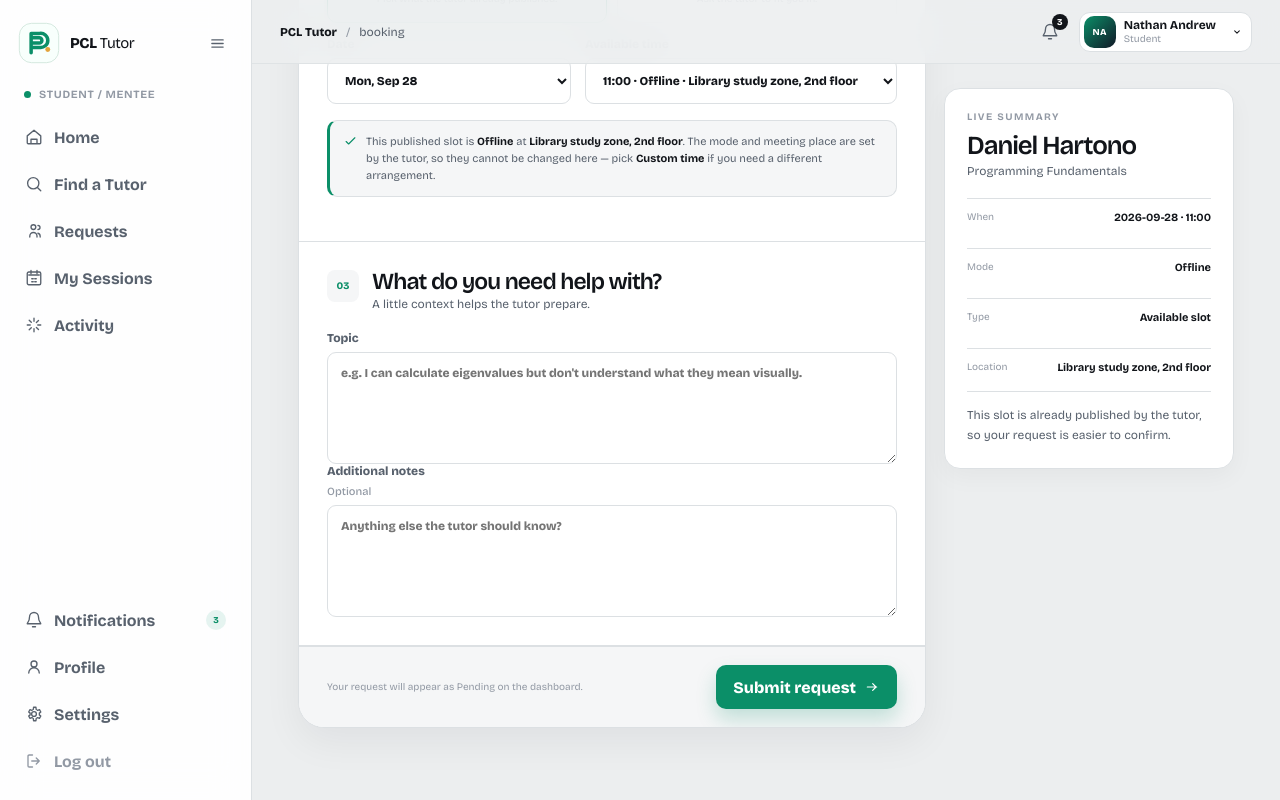
Test: booking a published slot › shows the exact payload for review and sends nothing until confirmed
The image size is (1280, 800).
(page scrolled)
Step 1. Type "RAII and smart pointers" into the text box labelled "Topic" → (612, 408), box [327,352,897,464]
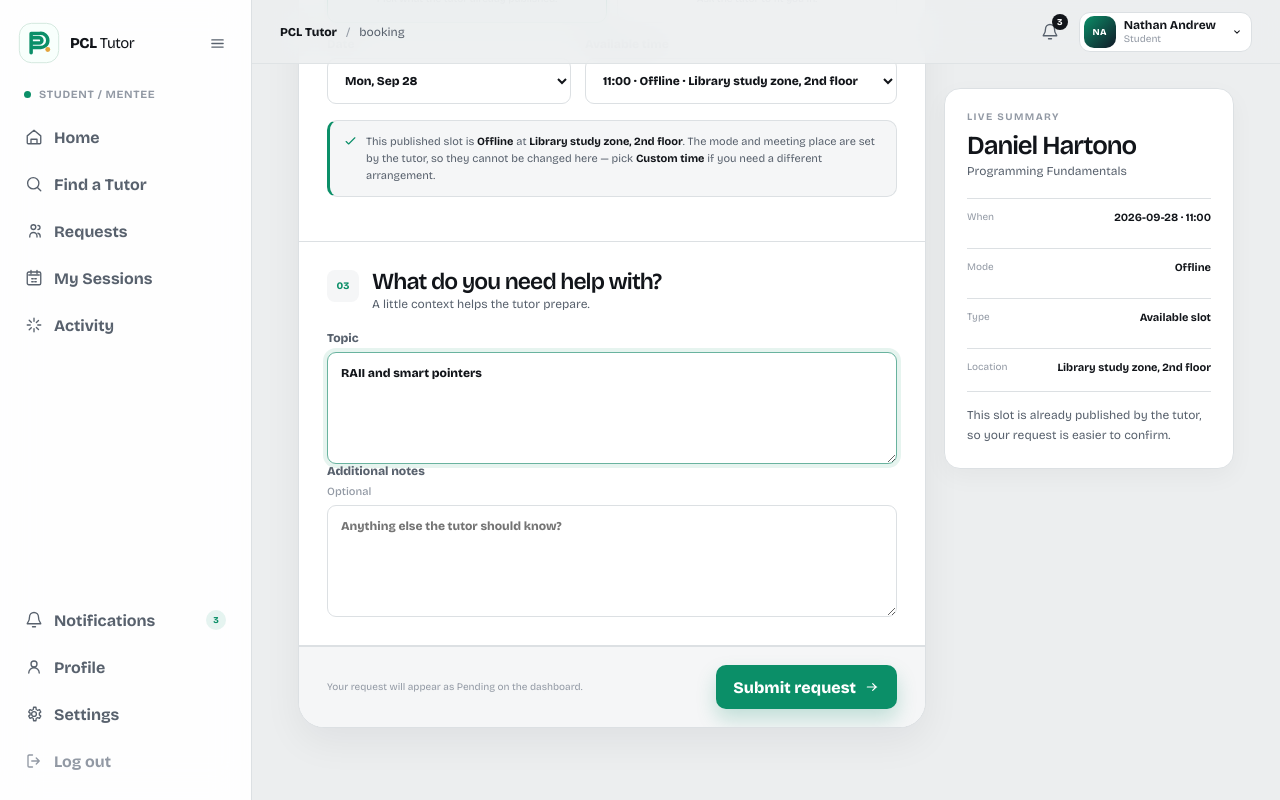
Step 2. Click the button "Submit request" → (807, 687), box [716,665,897,709]
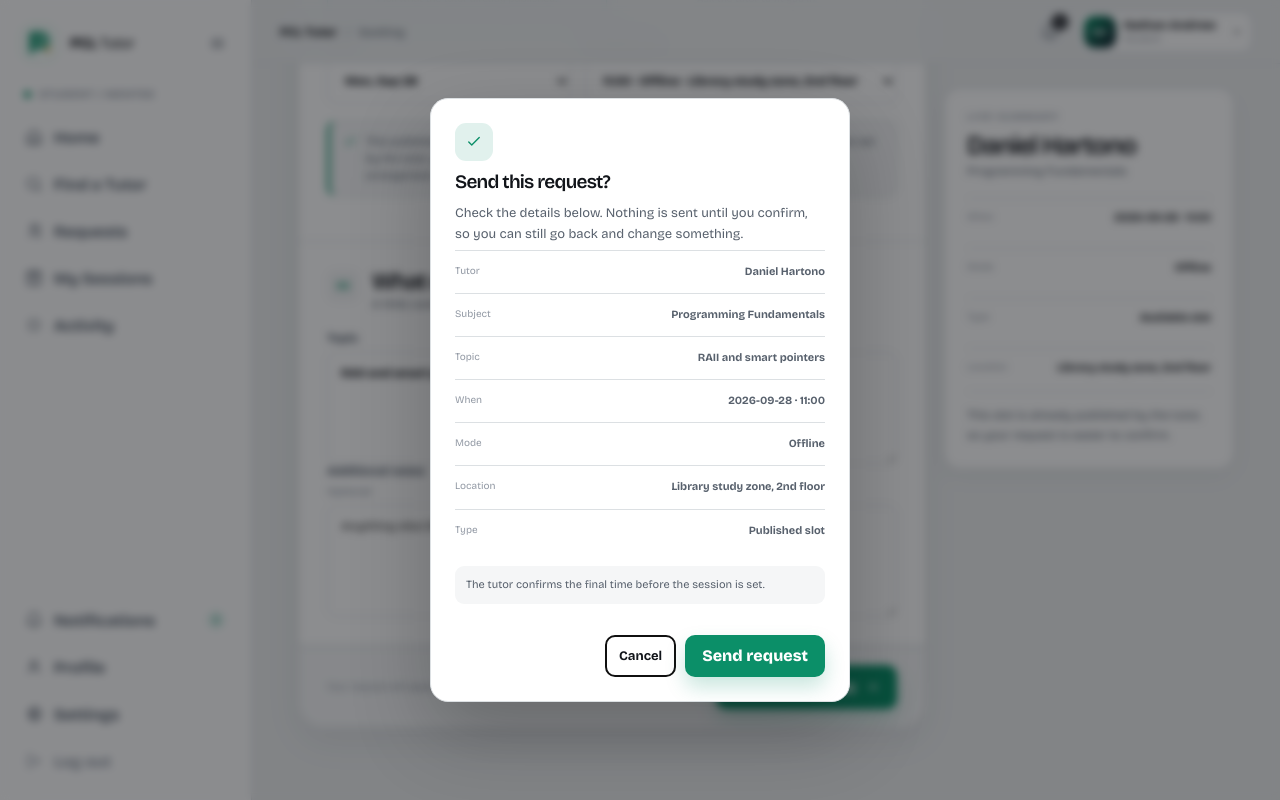
Now the dialog shows "Send this request", box [455,170,610,193]
Now the dialog shows "RAII and smart pointers", box [698,351,825,364]
Now the dialog shows "Offline", box [789,437,825,450]
Step 3. Click the button "Cancel" → (641, 656), box [605,635,676,677]
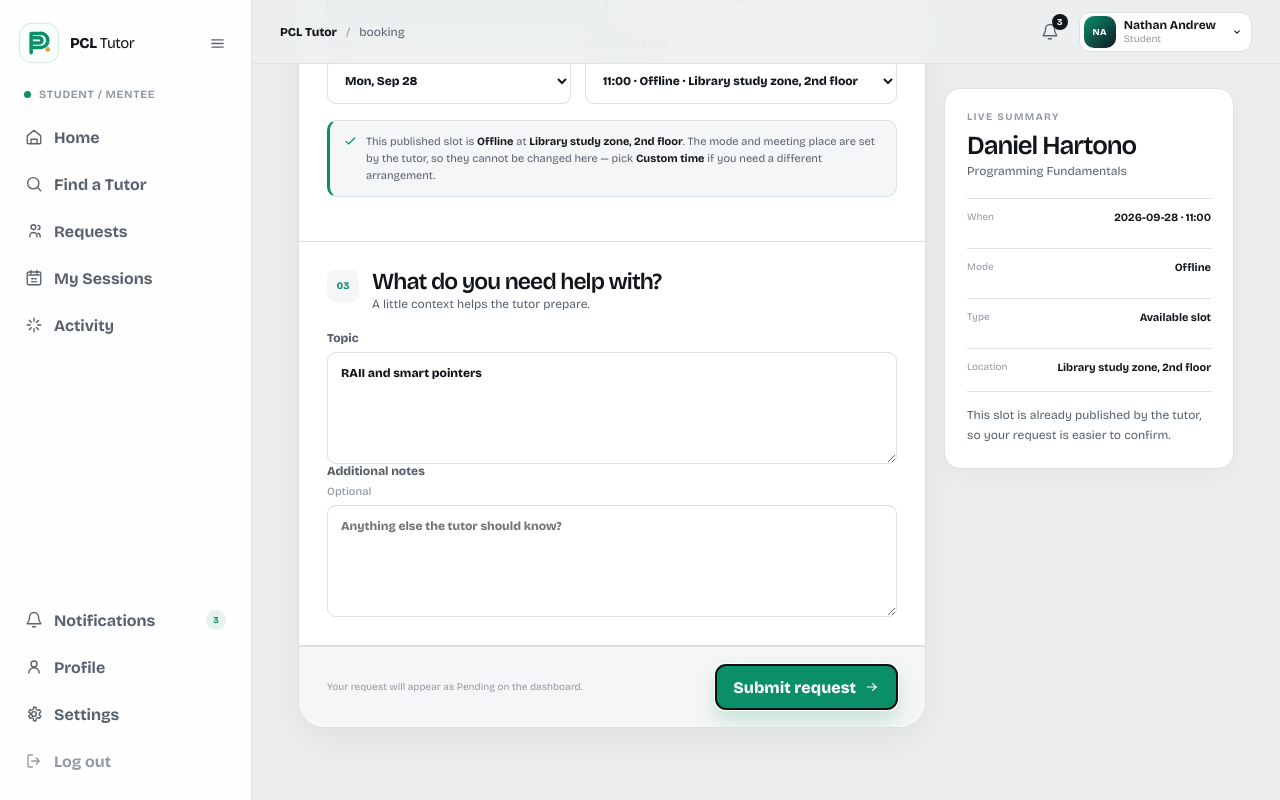
Now the dialog is gone
